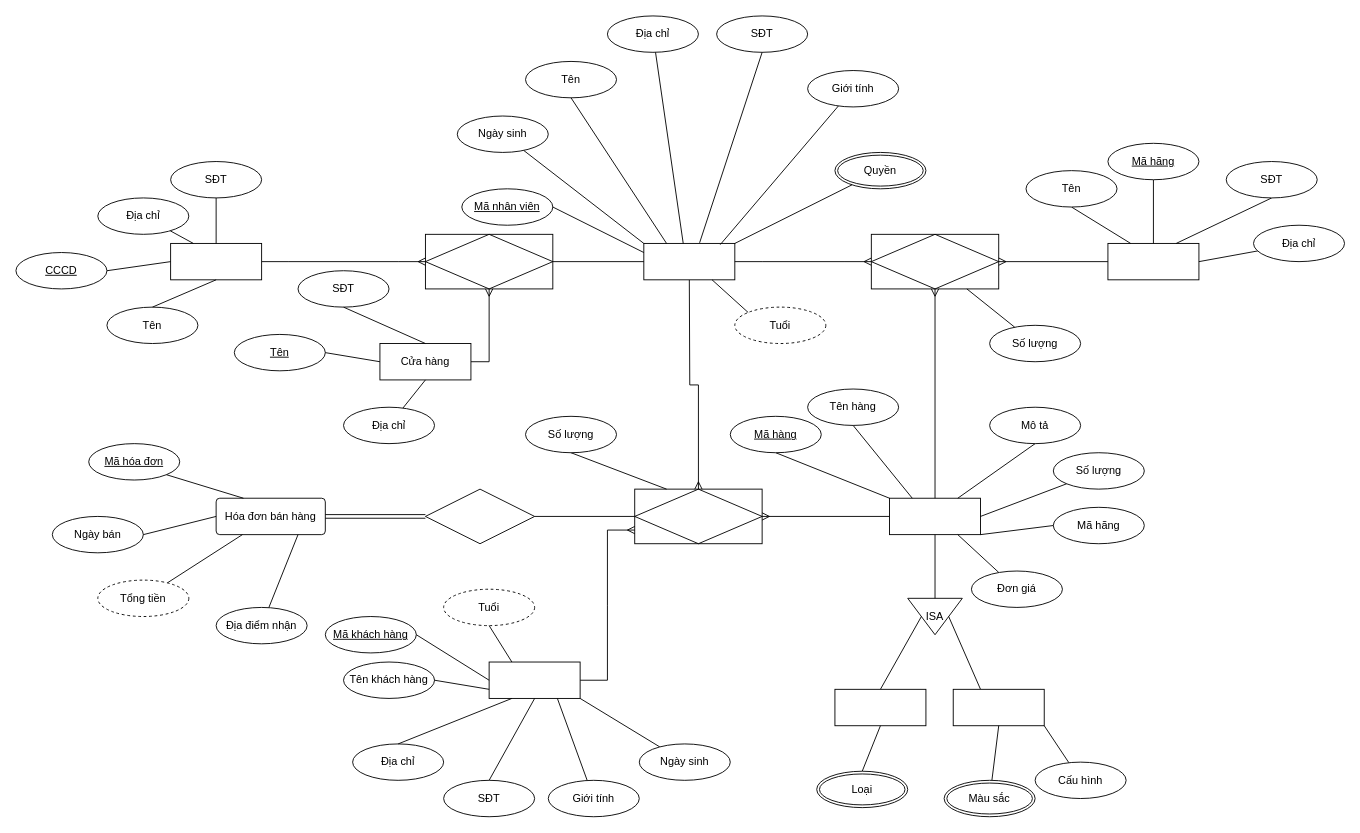
The diagram is 1360 pixels wide and 833 high, and some of its shapes have lost their labels. Here are the shapes that lost their labels. From the top down, the centre of each, then its label:
(x=216, y=261): CHỦ CỬA HÀNG
(x=489, y=261): Làm cho
(x=689, y=261): NHÂN VIÊN
(x=934, y=261): Nhập hàng
(x=1153, y=261): Hãng sản xuất
(x=480, y=516): Tạo HĐB
(x=698, y=516): BÁN HÀNG
(x=935, y=516): HÀNG HÓA
(x=534, y=679): KHÁCH HÀNG
(x=880, y=707): Phụ kiện
(x=998, y=707): Điện thoại
